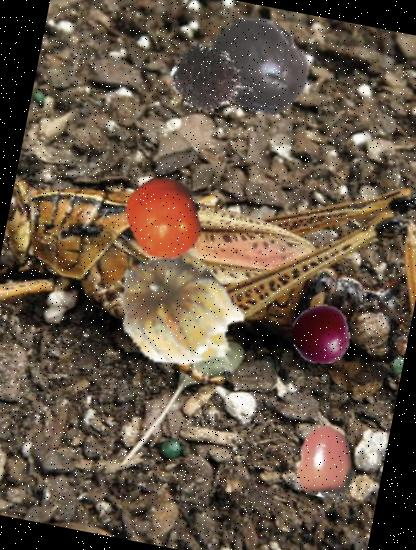Cherry: (286, 300, 355, 368)
Clementine: (116, 170, 213, 266)
Kaki: (284, 420, 368, 503)
Passion: (199, 4, 322, 127)
Physalis: (97, 233, 261, 397)
Rambutan: (161, 34, 255, 128)
